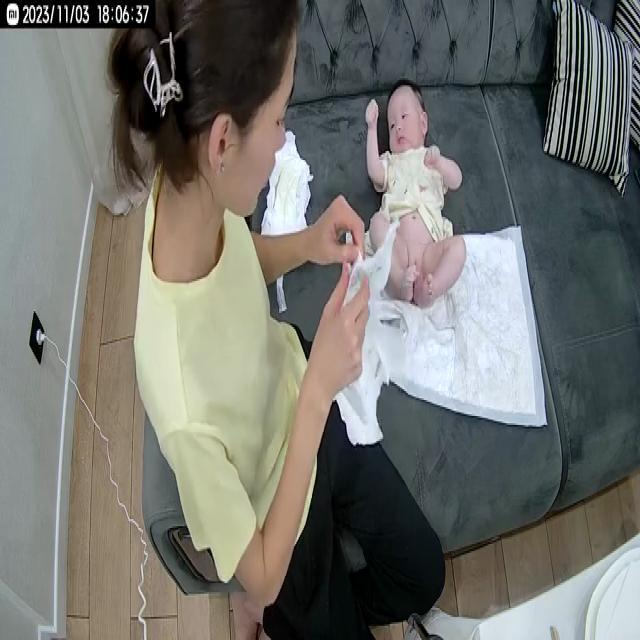baby: (356, 73, 478, 312)
